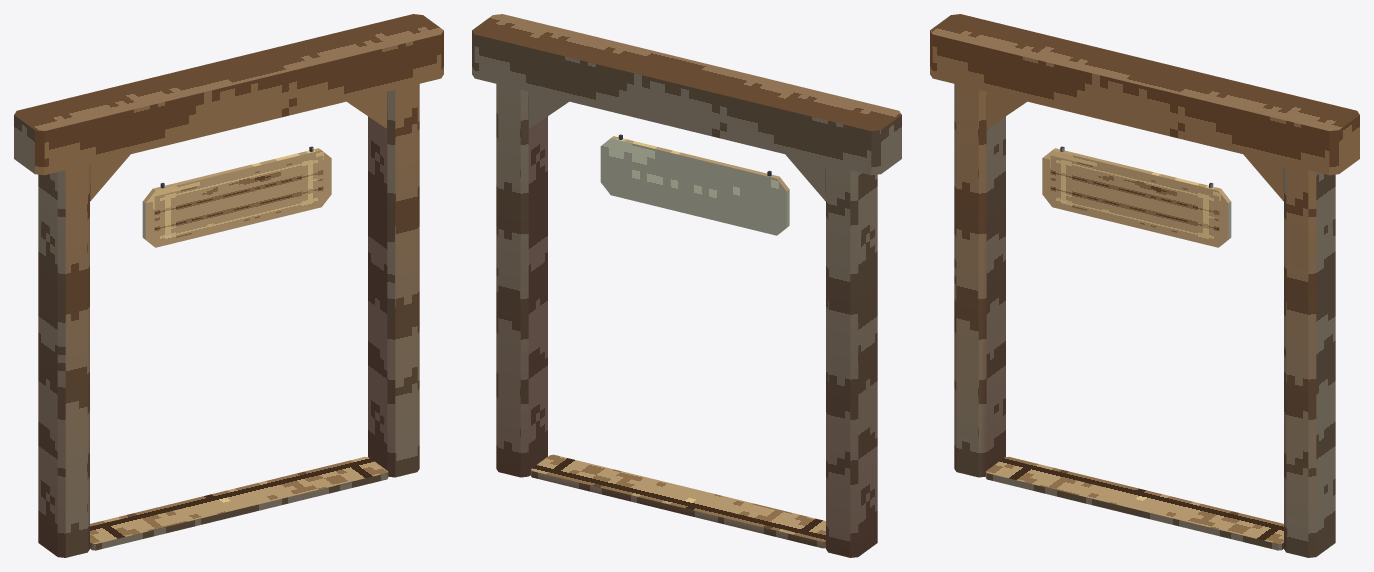
File: wtown.doorway__gate.glb
3 views of the same model, side by side, from view 1: azimuth 30°, elevation 25°; view 2: azimuth 150°, elevation 25°; view 3: azimuth 330°, elevation 25° (orthographic).
Parts seen in each view (by area): view 1: kit_posts, kit_header, kit_sill, kit_card_panes, kit_sign, kit_corbels; view 2: kit_posts, kit_header, kit_sign, kit_sill, kit_corbels; view 3: kit_posts, kit_header, kit_sill, kit_card_panes, kit_sign, kit_corbels.
Part boxes in pixels (bbox=[...]): kit_posts: bbox=[38, 84, 419, 557]; kit_header: bbox=[14, 14, 443, 175]; kit_sill: bbox=[90, 457, 388, 550]; kit_card_panes: bbox=[154, 155, 323, 242]; kit_sign: bbox=[142, 148, 331, 247]; kit_corbels: bbox=[90, 92, 386, 201]; kit_posts: bbox=[496, 84, 877, 557]; kit_header: bbox=[472, 14, 901, 175]; kit_sign: bbox=[600, 136, 789, 235]; kit_sill: bbox=[530, 454, 825, 548]; kit_corbels: bbox=[529, 92, 825, 201]; kit_posts: bbox=[954, 84, 1335, 557]; kit_header: bbox=[930, 14, 1359, 175]; kit_sill: bbox=[985, 457, 1283, 550]; kit_card_panes: bbox=[1050, 155, 1219, 242]; kit_sign: bbox=[1042, 148, 1231, 247]; kit_corbels: bbox=[987, 92, 1283, 201].
Size of the model in its own units: 3.3 by 3.34 by 0.39.
Materials: 6 (6 with a texture image).
